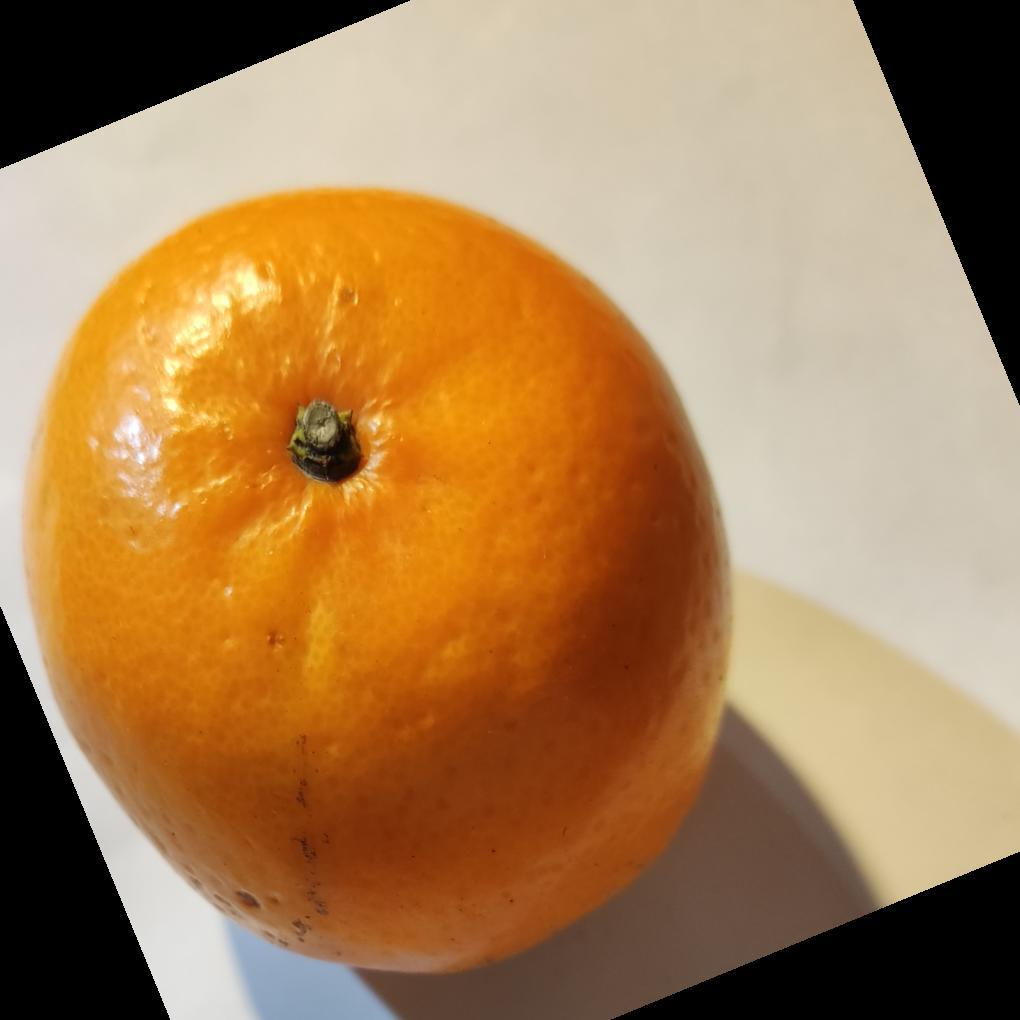FreshGuava: (17, 186, 735, 979)
